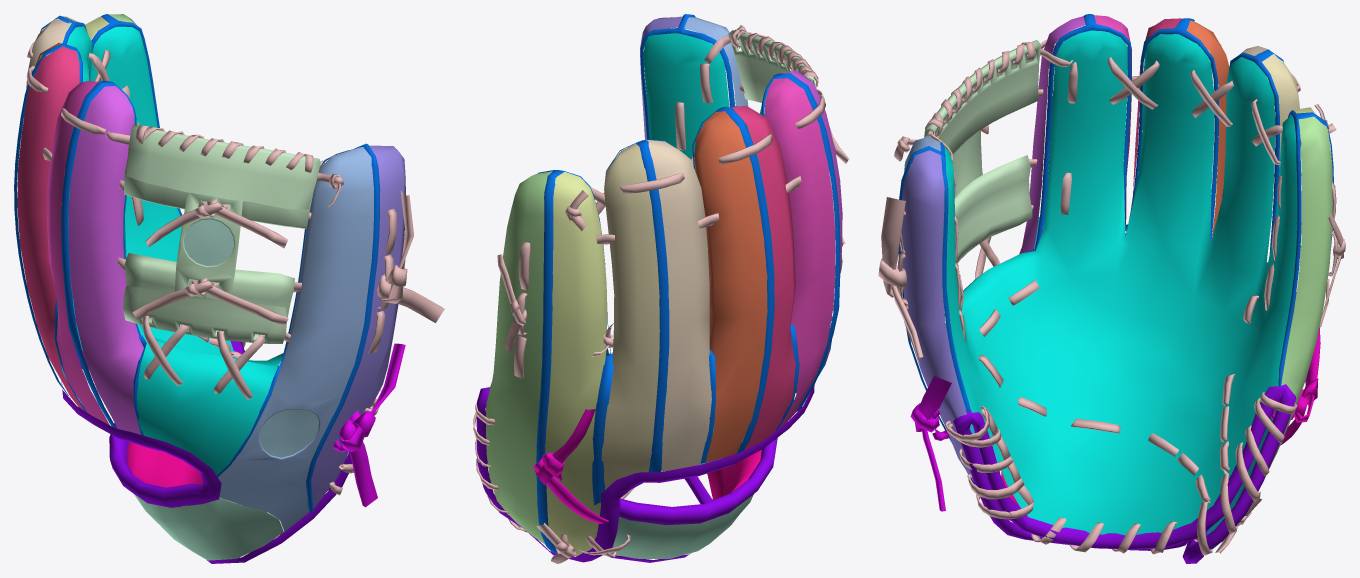
3 views of the same model, side by side, from view 1: azimuth 30°, elevation 25°; view 2: azimuth 150°, elevation 25°; view 3: azimuth 270°, elevation 25° (orthographic). The views are drawn at different scales.
Visible parts, largest first — view 1: low; view 2: low; view 3: low.
Boxes of the visible parts, box(x1,y1,x2,y2) form: low: box(14, 14, 444, 563); low: box(473, 14, 849, 563); low: box(878, 14, 1345, 563).
Bounding box in the file's own units: 11.6 × 18.25 × 15.92.
